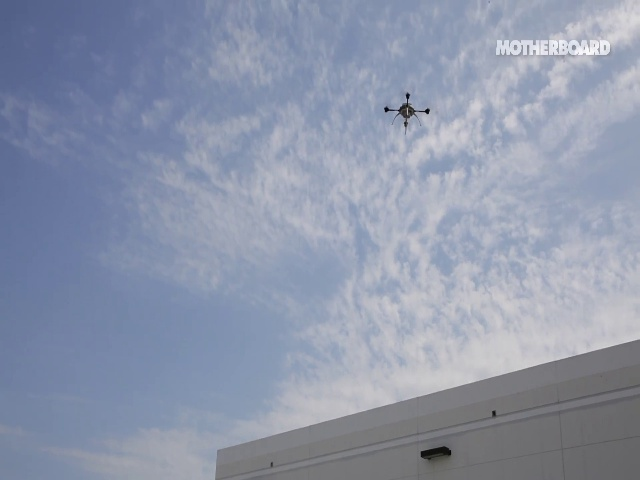drone: (375, 83, 434, 141)
